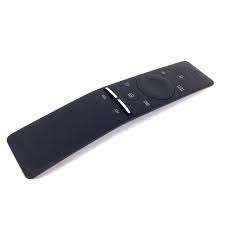remote control: (1, 32, 218, 188)
